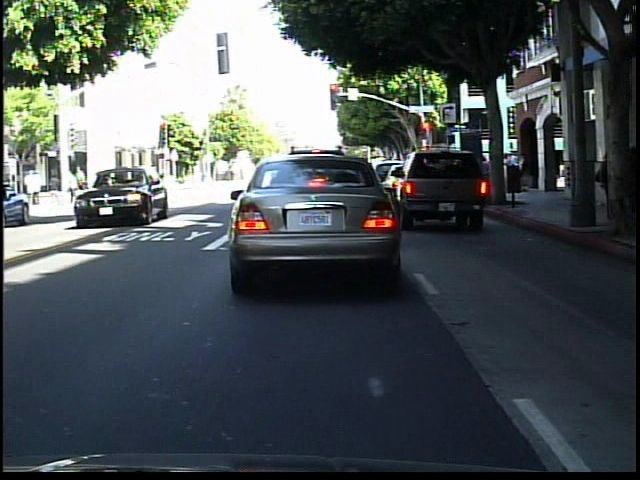person: (617, 141, 640, 219), (590, 140, 612, 217), (73, 162, 90, 196), (50, 169, 64, 206), (69, 165, 82, 204)
